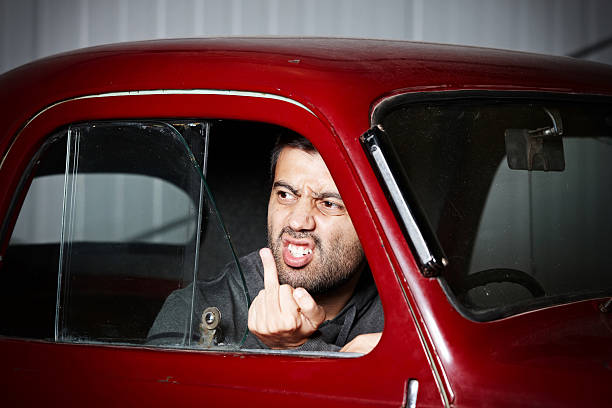insulting_gesture: (245, 248, 324, 344)
